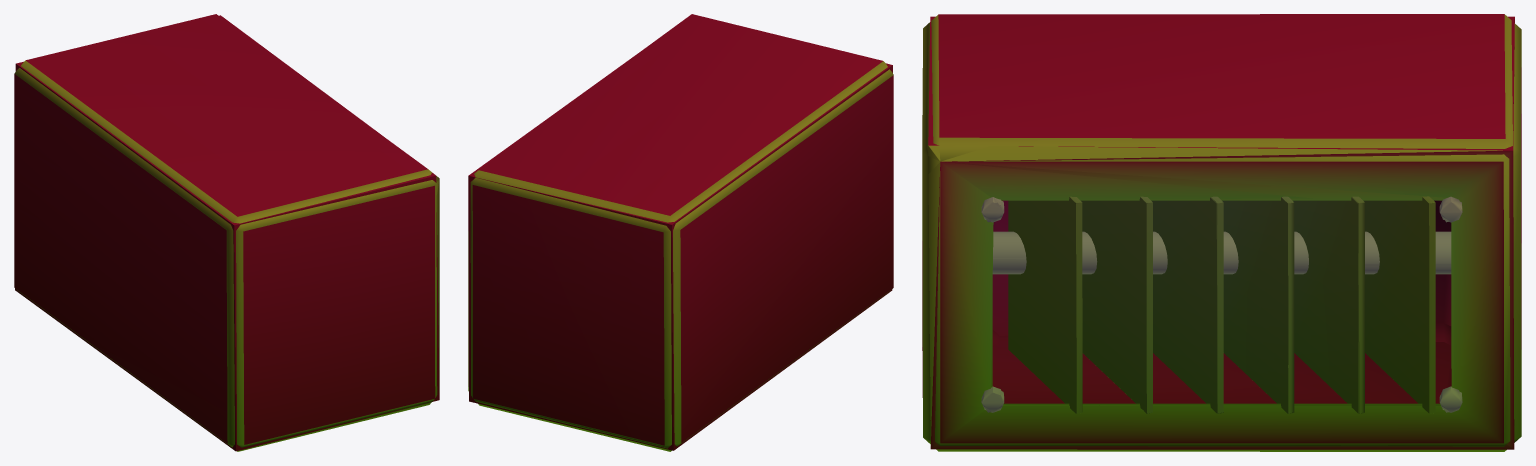
File: RCLModule_tidebreaker_skirmisher_tachyon_warp_radiator_LODs.fbx
3 renders of one model, left to right at view 1: azimuth 30°, elevation 25°; view 2: azimuth 150°, elevation 25°; view 3: azimuth 270°, elevation 25°, orthographic. The views are drawn at different scales.
Visible parts, largest first — view 1: LOD1_RCLModule_tidebreaker_skirmisher_tachyon_warp_radiator_, LOD2_RCLModule_tidebreaker_skirmisher_tachyon_warp_radiator_; view 2: LOD1_RCLModule_tidebreaker_skirmisher_tachyon_warp_radiator_, LOD2_RCLModule_tidebreaker_skirmisher_tachyon_warp_radiator_; view 3: LOD1_RCLModule_tidebreaker_skirmisher_tachyon_warp_radiator_ (×3), LOD2_RCLModule_tidebreaker_skirmisher_tachyon_warp_radiator_.
Boxes of the visible parts, x1,y1,x2,y2 form: LOD1_RCLModule_tidebreaker_skirmisher_tachyon_warp_radiator_: (14,14,439,451); LOD2_RCLModule_tidebreaker_skirmisher_tachyon_warp_radiator_: (15,15,439,451); LOD1_RCLModule_tidebreaker_skirmisher_tachyon_warp_radiator_: (468,14,893,451); LOD2_RCLModule_tidebreaker_skirmisher_tachyon_warp_radiator_: (468,57,892,450); LOD1_RCLModule_tidebreaker_skirmisher_tachyon_warp_radiator_ (×3): (922,14,1521,451); LOD2_RCLModule_tidebreaker_skirmisher_tachyon_warp_radiator_: (928,16,1514,449).
Bounding box in the file's own units: 35.27 × 35.66 × 61.66.
